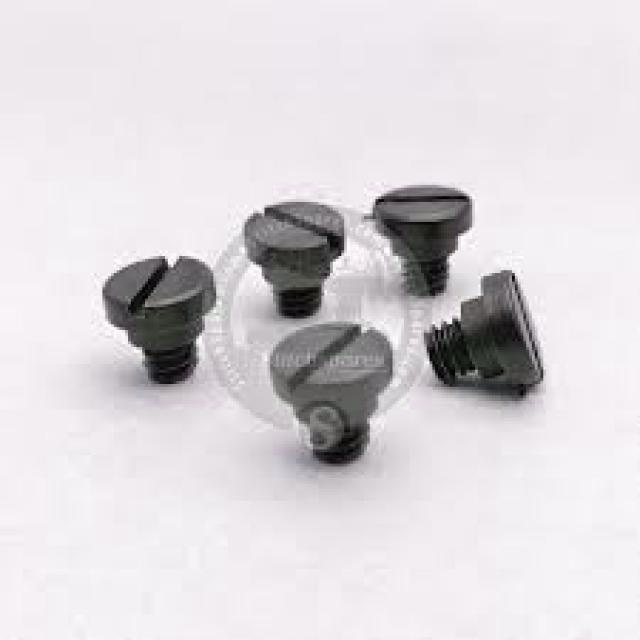duz: (267, 319, 393, 398), (101, 252, 217, 323), (244, 196, 347, 266), (375, 180, 472, 239)
